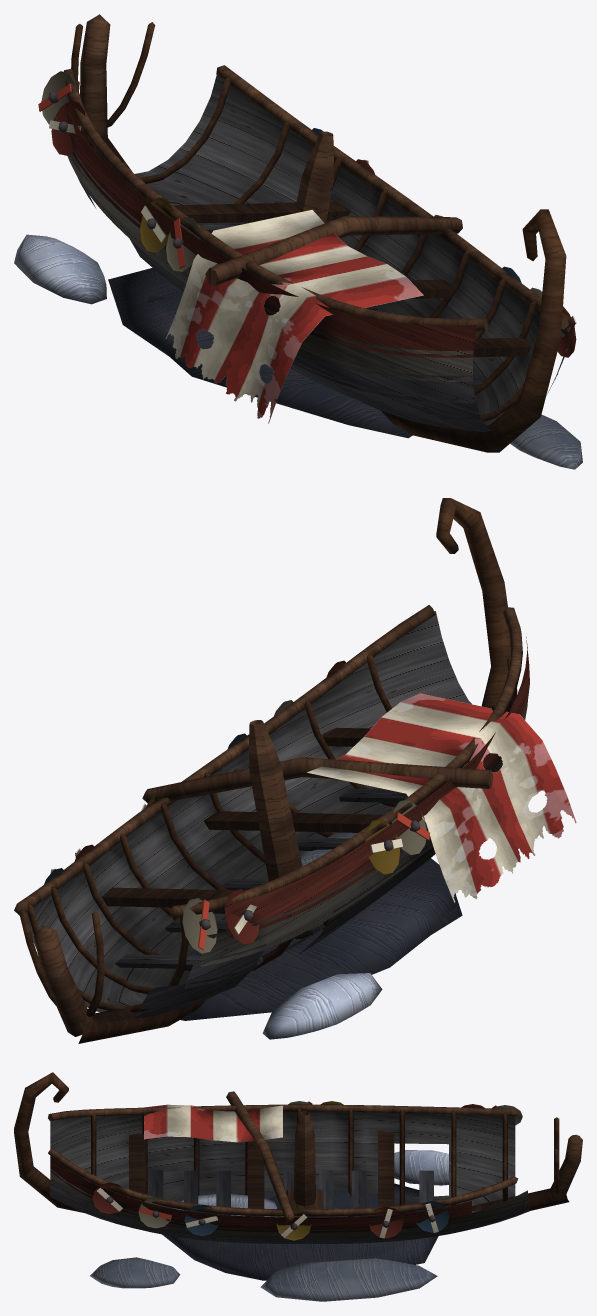
Rendered from rimeshore_longship.glb.
3 views of the same model, one above another, from view 1: azimuth 30°, elevation 25°; view 2: azimuth 150°, elevation 25°; view 3: azimuth 270°, elevation 25° (orthographic). The views are drawn at different scales.
Visible parts, largest first — view 1: rimeshore_longship; view 2: rimeshore_longship; view 3: rimeshore_longship.
Boxes of the visible parts, box(x1,y1,x2,y2) form: rimeshore_longship: box(14, 14, 582, 469); rimeshore_longship: box(14, 498, 576, 1043); rimeshore_longship: box(14, 1072, 582, 1301).
Size of the model in its own units: 3.29 by 2.9 by 7.77.
Materials: 7 (6 with a texture image).
